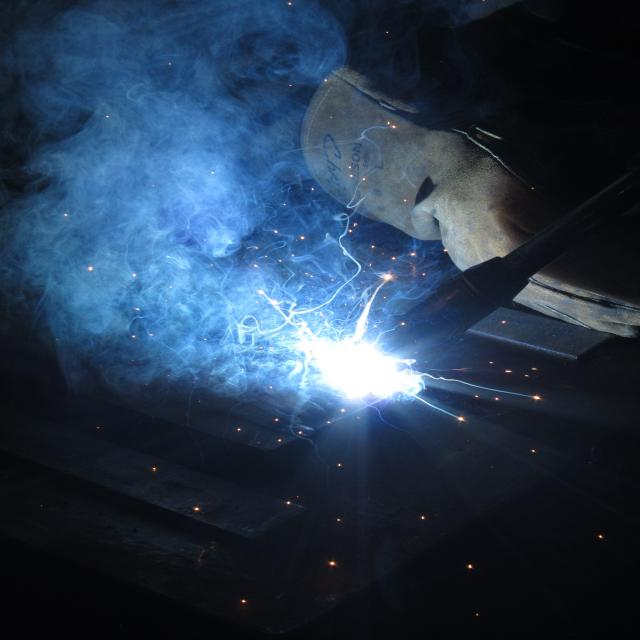welding: (294, 328, 430, 407)
